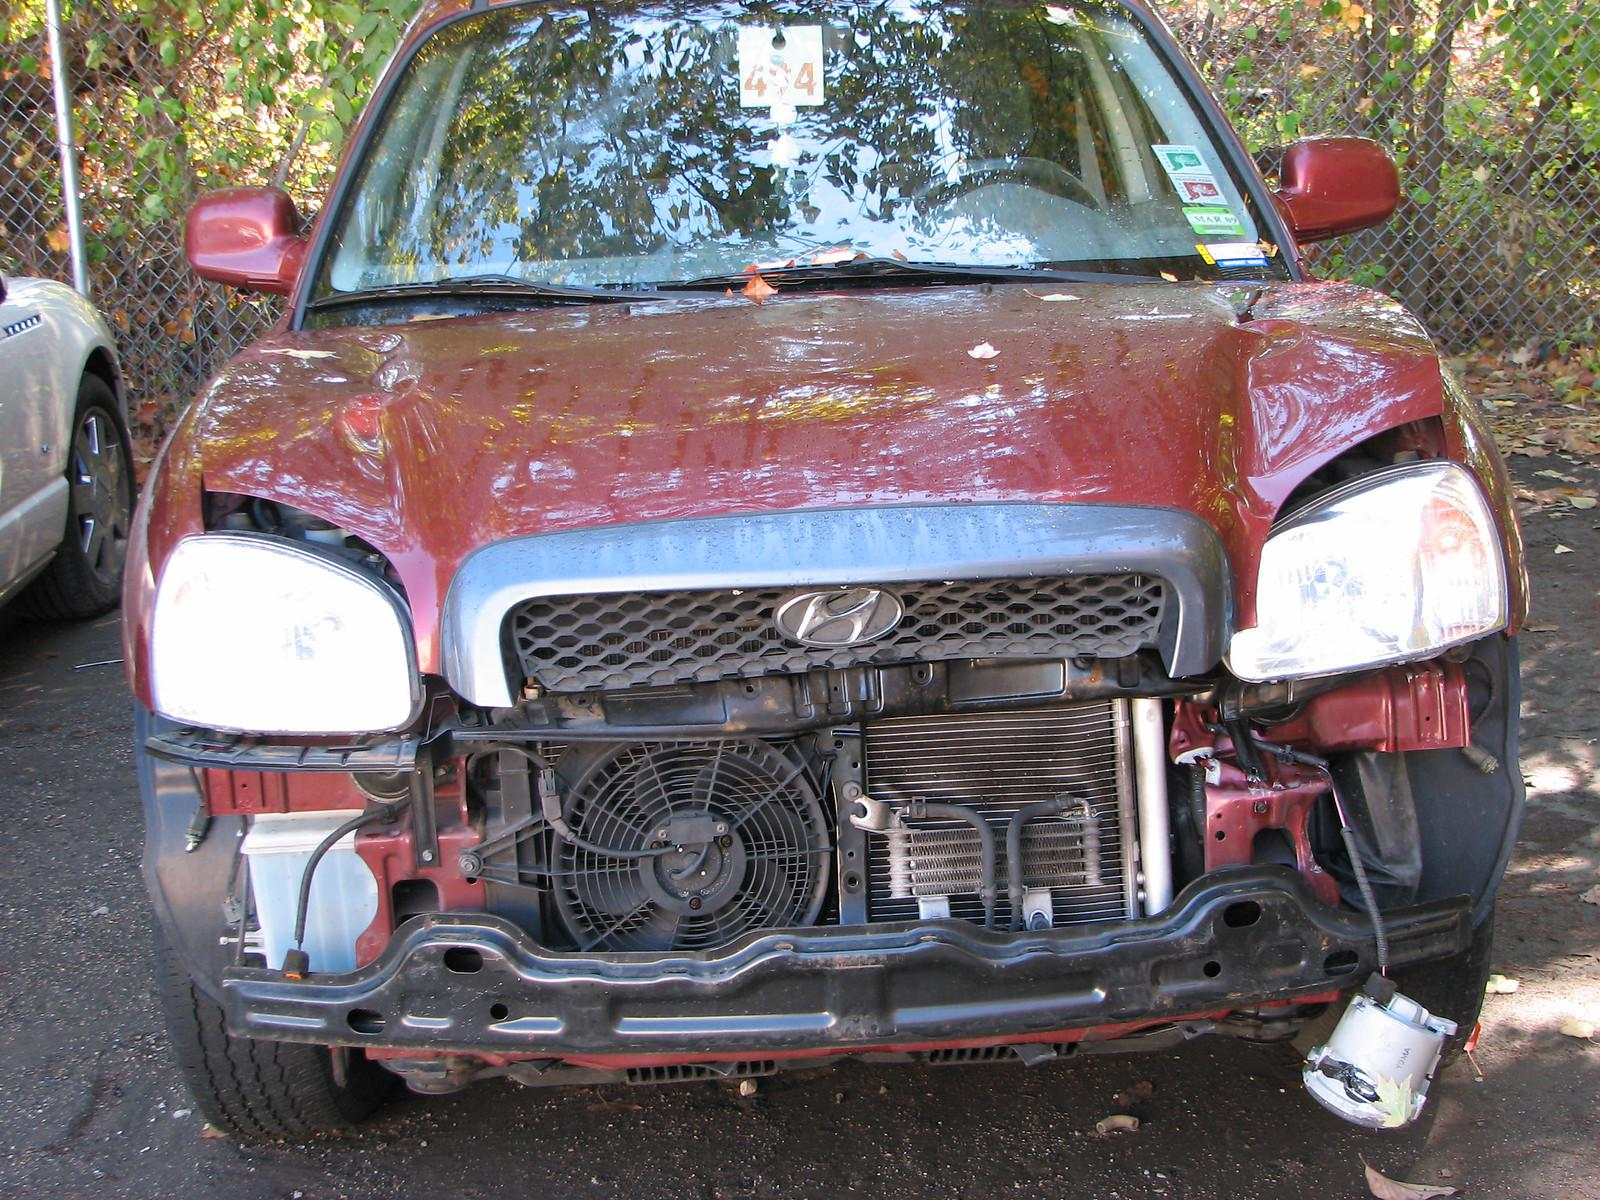front-bumper-dent: (202, 753, 1400, 1049)
